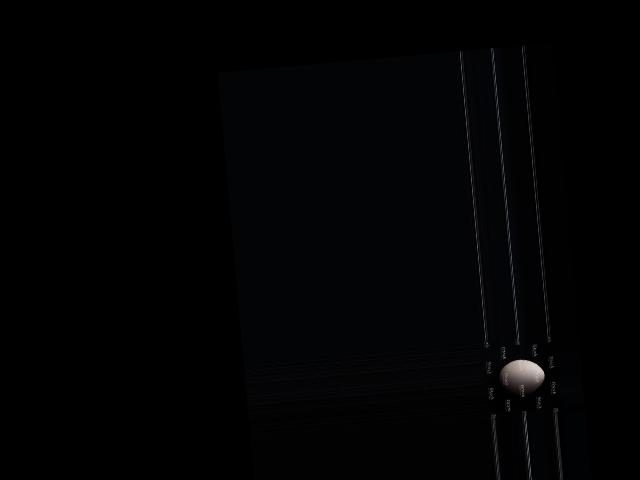egg: (496, 358, 546, 397)
